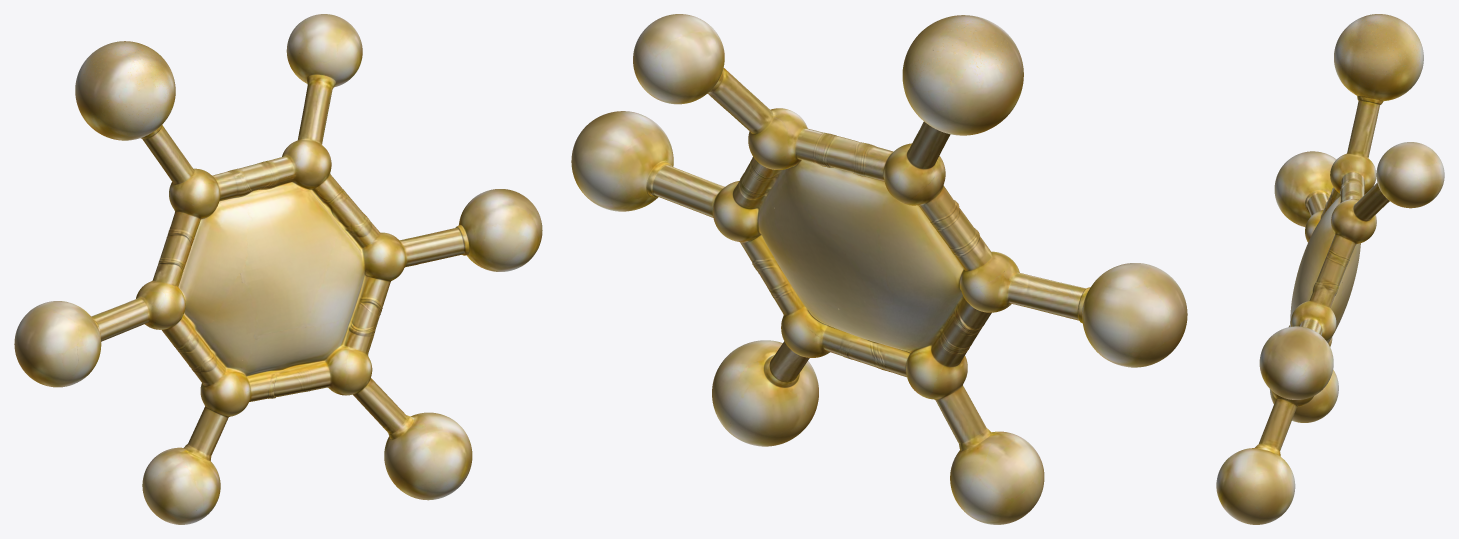
Rendered from glucose.glb.
3 views of the same model, side by side, from view 1: azimuth 30°, elevation 25°; view 2: azimuth 150°, elevation 25°; view 3: azimuth 270°, elevation 25° (orthographic). The views are drawn at different scales.
Parts seen in each view (by area): view 1: node_0; view 2: node_0; view 3: node_0.
Part boxes in pixels (left/top/right/bottom): node_0: left=14, top=14, right=542, bottom=524; node_0: left=571, top=14, right=1187, bottom=524; node_0: left=1216, top=14, right=1444, bottom=524.
Bounding box in the file's own units: 1.14 × 0.9792 × 0.5031.
Materials: 1 (1 with a texture image).
